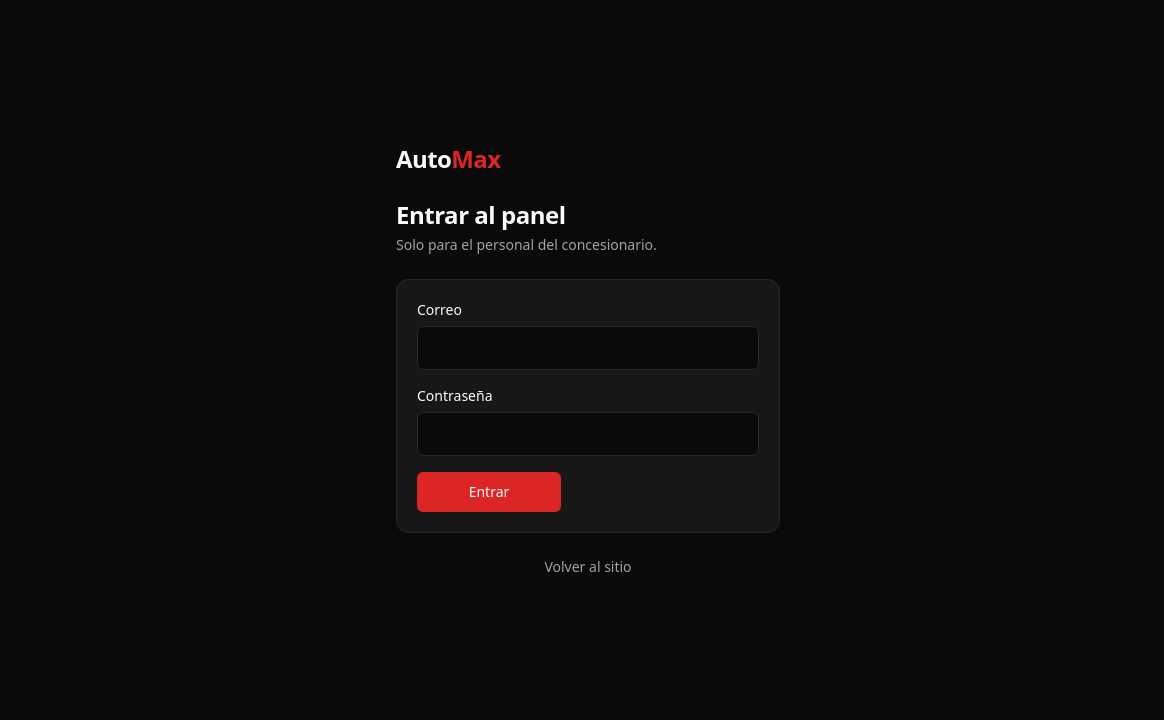
inicio de sesión › sin sesión, /admin lleva al login; al entrar vuelve a la ruta pedida y guarda el token en sessionStorage
Expected: the heading "Entrar al panel" is shown, [396,198,566,231]
Type "admin@automax.co" into the field labelled "Correo" at point(588, 348), box [417,326,759,370]
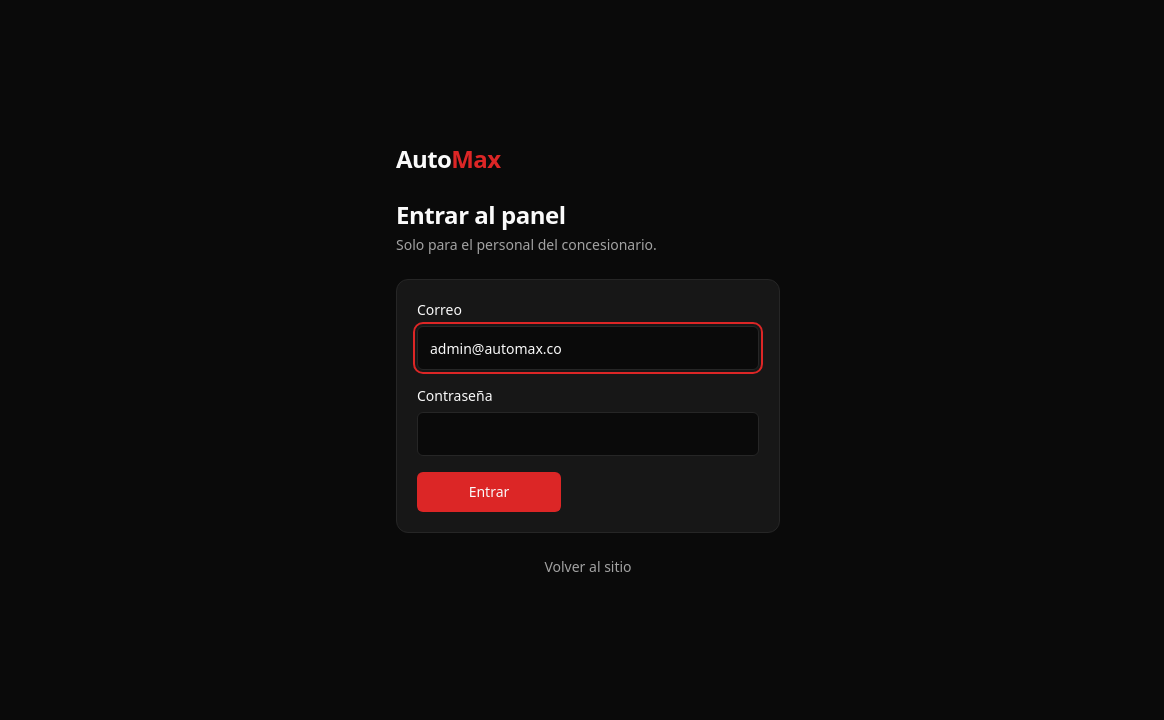
Type "clave-correcta-123" into the password field labelled "Contraseña" at point(588, 434), box [417,412,759,456]
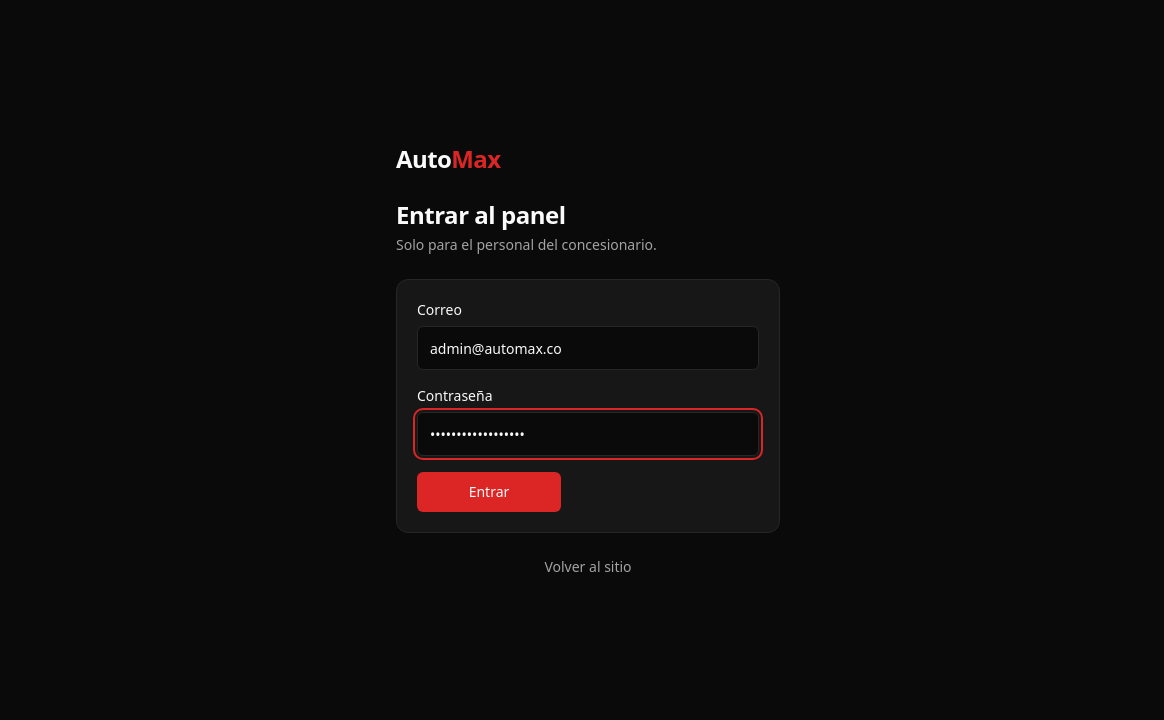
Click the button "Entrar" at point(489, 492), box [417,472,561,512]
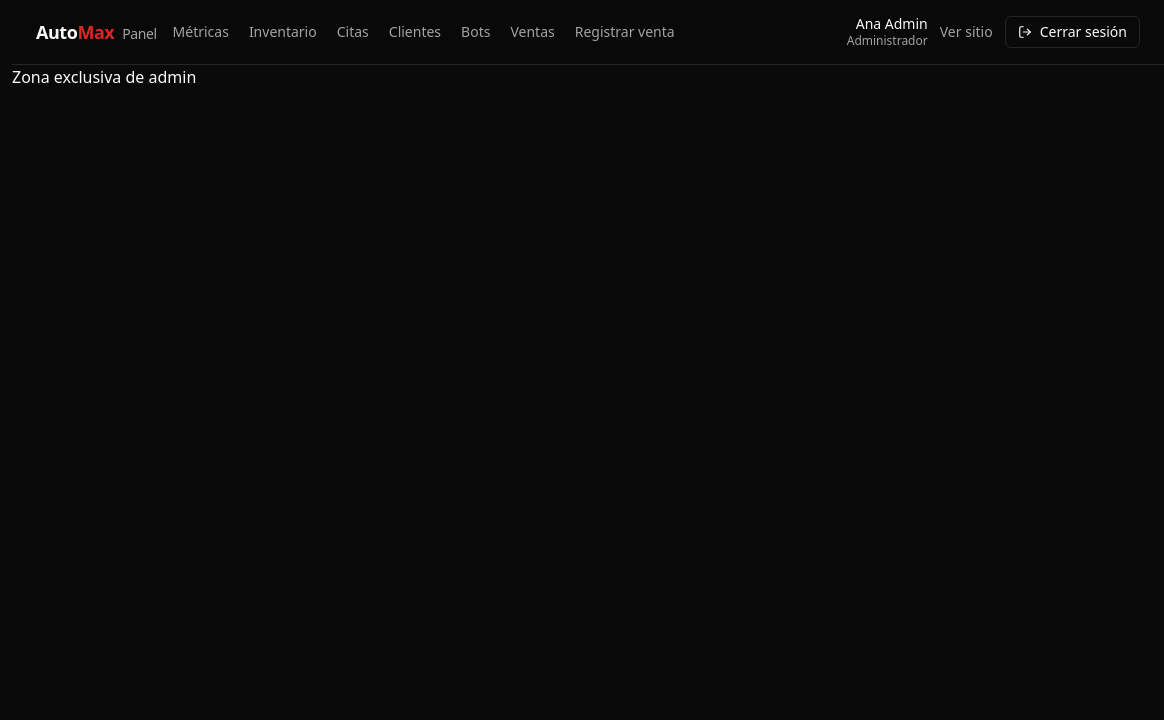
Result: the text "Zona exclusiva de admin" is shown at [12,66,196,88]
Result: the text "Administrador" is shown at [847,33,928,49]
